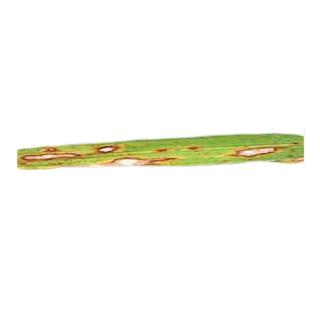Blast: (224, 137, 297, 165), (19, 146, 83, 170), (95, 152, 175, 164), (96, 143, 118, 155)
